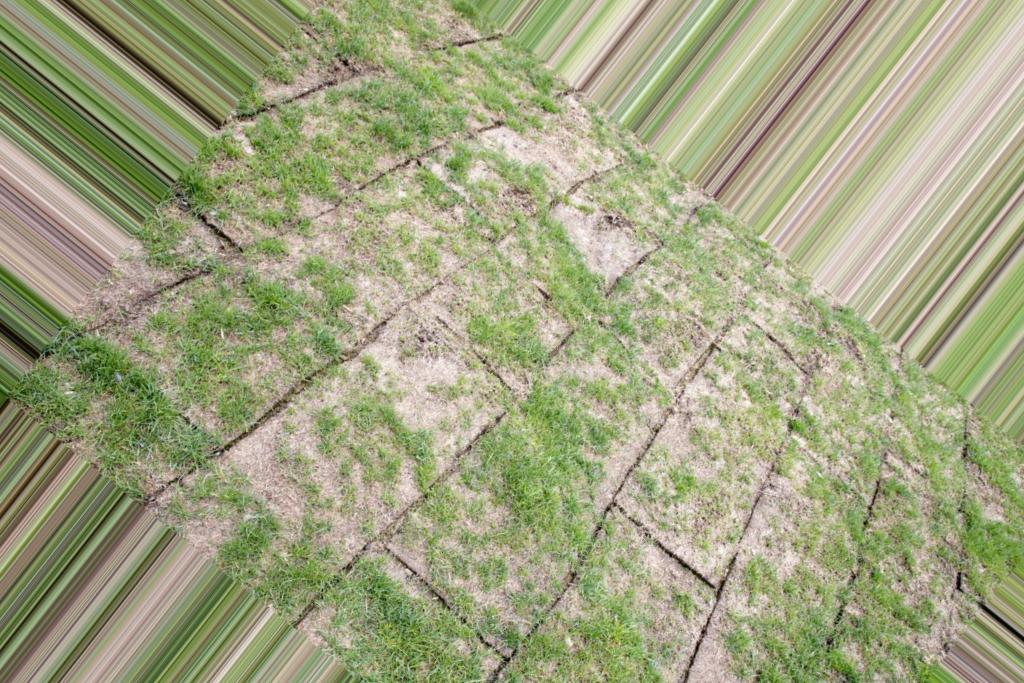patch: (388, 325, 505, 456), (317, 233, 410, 343), (223, 428, 334, 498), (573, 209, 663, 282), (507, 128, 591, 195), (657, 427, 719, 480)
